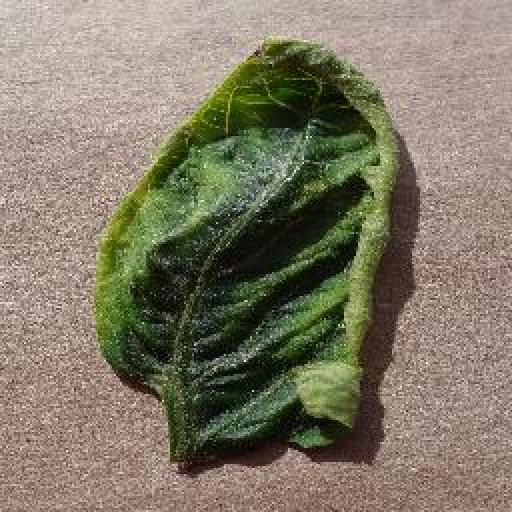disease_tomato: (90, 35, 405, 456)
